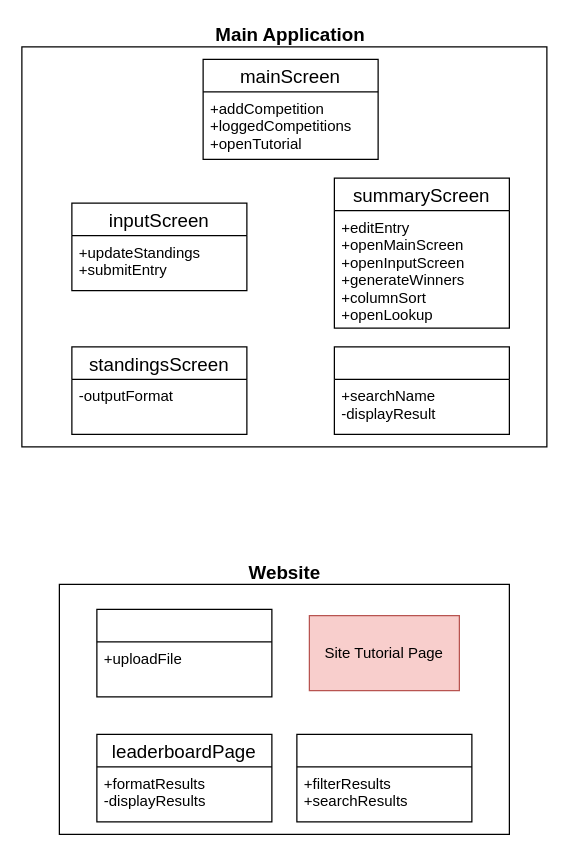
Image size: 569x856. Some labels were removed from this diagram. Each missing label, with the box of its shape:
backupPage: (296, 733, 472, 822)
lookupScreen: (333, 346, 509, 434)
websiteUploadPage: (96, 608, 272, 697)
